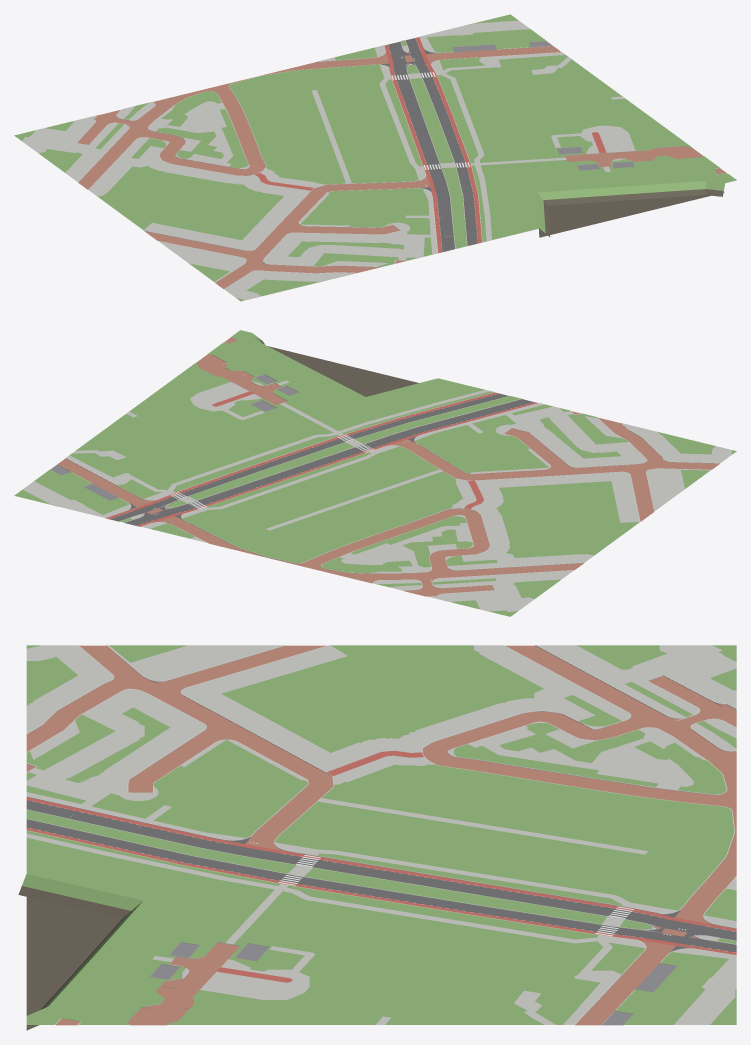
Rendered from ground_10_13.glb.
3 renders of one model, top to bottom at view 1: azimuth 30°, elevation 25°; view 2: azimuth 150°, elevation 25°; view 3: azimuth 270°, elevation 25°, orthographic. The views are drawn at different scales.
Visible parts, largest first — view 1: ground_10_13; view 2: ground_10_13; view 3: ground_10_13.
Boxes of the visible parts, bbox=[...] form: ground_10_13: bbox=[14, 14, 736, 301]; ground_10_13: bbox=[14, 330, 736, 616]; ground_10_13: bbox=[18, 645, 736, 1030].
Bounding box in the file's own units: 200 × 3.62 × 161.
